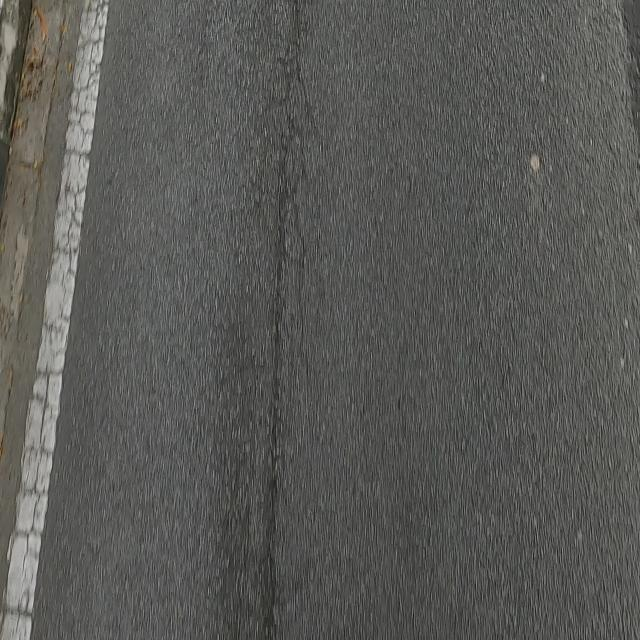Retak-Buaya: (1, 0, 111, 622)
Retak-Memanjang: (252, 13, 303, 640)
